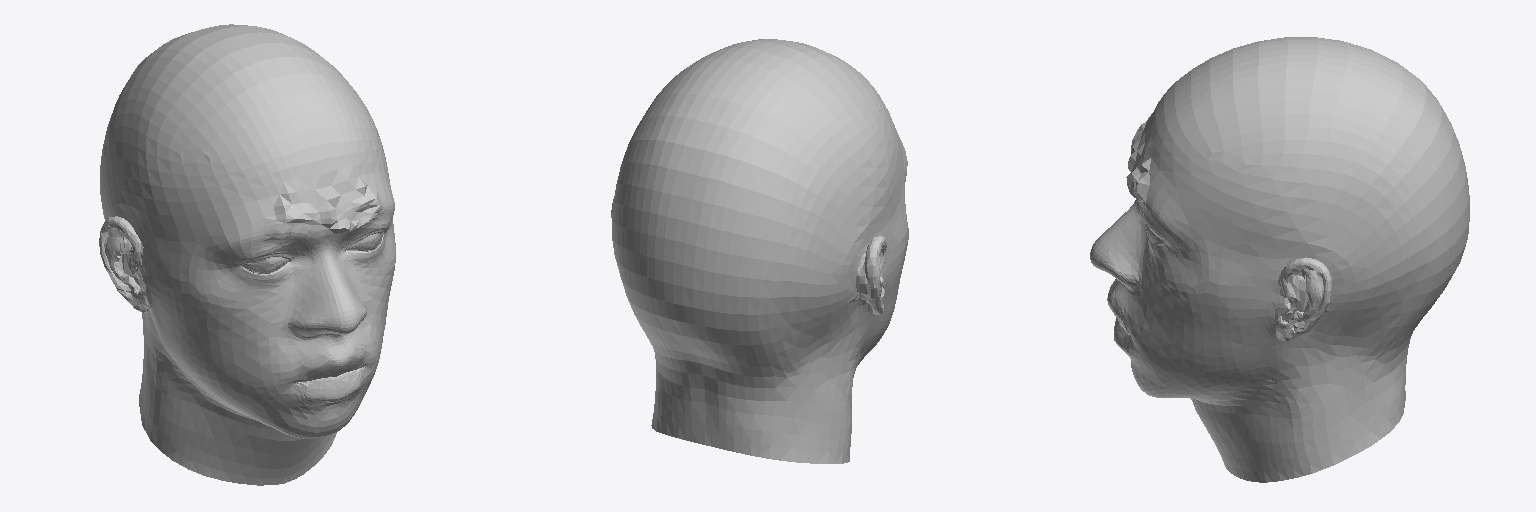
Rendered from MaleFaced15.obj.
3 renders of one model, left to right at view 1: azimuth 30°, elevation 25°; view 2: azimuth 150°, elevation 25°; view 3: azimuth 270°, elevation 25°, orthographic.
Visible parts, largest first — view 1: HeadHires; view 2: HeadHires; view 3: HeadHires.
Boxes of the visible parts, x1=… form: HeadHires: x1=99, y1=24, x2=395, y2=485; HeadHires: x1=611, y1=39, x2=908, y2=463; HeadHires: x1=1090, y1=37, x2=1469, y2=482.
Bounding box in the file's own units: 190 × 283 × 235.